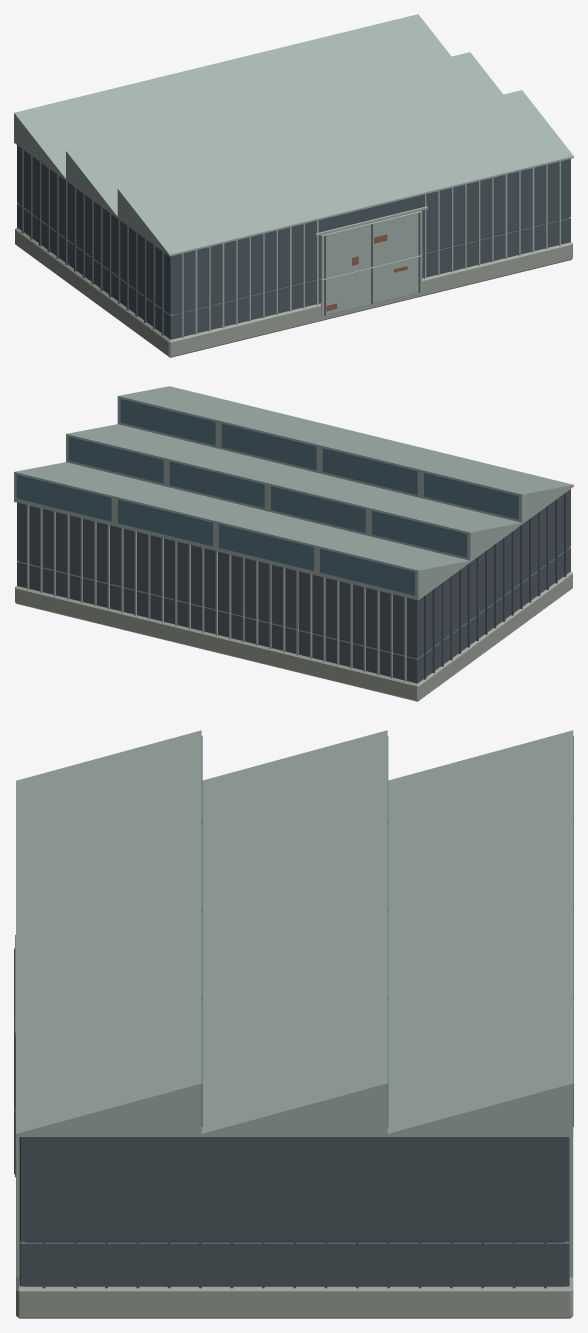
The model's file is urban_warehouse.glb.
3 renders of one model, top to bottom at view 1: azimuth 30°, elevation 25°; view 2: azimuth 150°, elevation 25°; view 3: azimuth 270°, elevation 25°, orthographic. The views are drawn at different scales.
Visible parts, largest first — view 1: Occlude_Upper_Mesh, Keep_Mesh; view 2: Occlude_Upper_Mesh, Keep_Mesh; view 3: Occlude_Upper_Mesh, Keep_Mesh.
Boxes of the visible parts, bbox=[...] form: Occlude_Upper_Mesh: bbox=[14, 14, 573, 314]; Keep_Mesh: bbox=[15, 203, 572, 357]; Occlude_Upper_Mesh: bbox=[14, 386, 573, 658]; Keep_Mesh: bbox=[15, 547, 572, 701]; Occlude_Upper_Mesh: bbox=[14, 730, 573, 1244]; Keep_Mesh: bbox=[14, 1108, 573, 1318].
Bounding box in the file's own units: 24 × 7.5 × 16.08.
